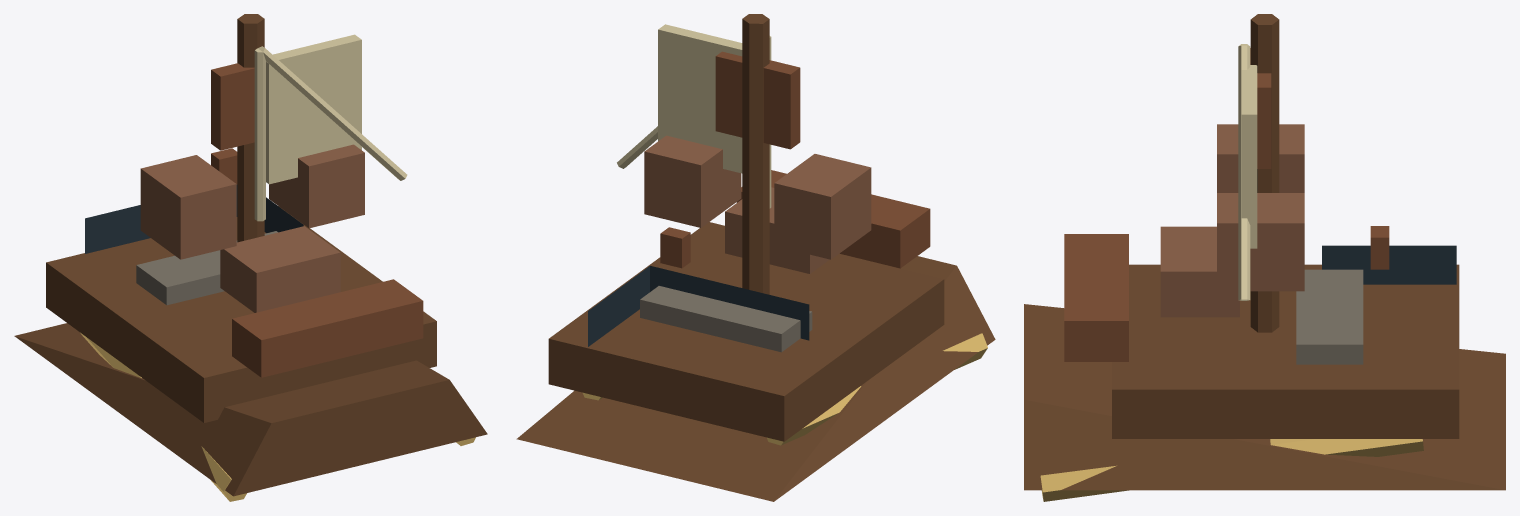
Rendered from raft.obj.
3 renders of one model, left to right at view 1: azimuth 30°, elevation 25°; view 2: azimuth 150°, elevation 25°; view 3: azimuth 270°, elevation 25°, orthographic. The views are drawn at different scales.
Visible parts, largest first — view 1: ship; view 2: ship; view 3: ship.
Part boxes in pixels (bbox=[...]): ship: bbox=[14, 14, 487, 501]; ship: bbox=[516, 14, 995, 501]; ship: bbox=[1024, 14, 1505, 501].
Size of the model in its own units: 1.67 by 2.2 by 2.31.
